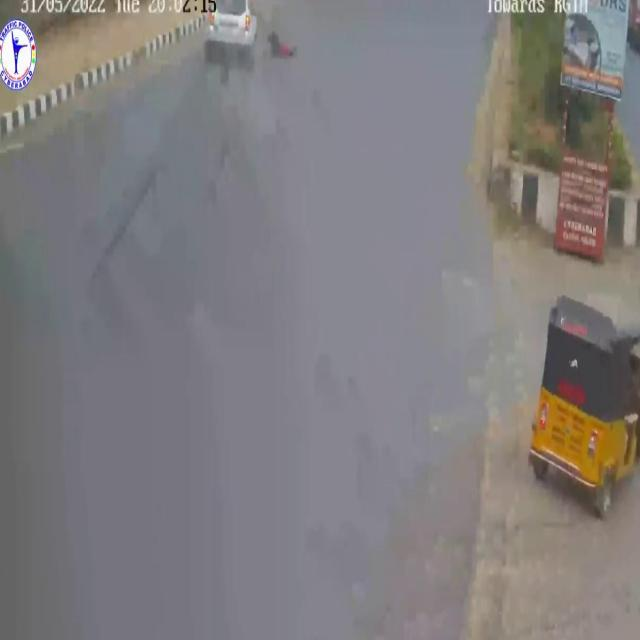accident: (198, 0, 302, 71)
